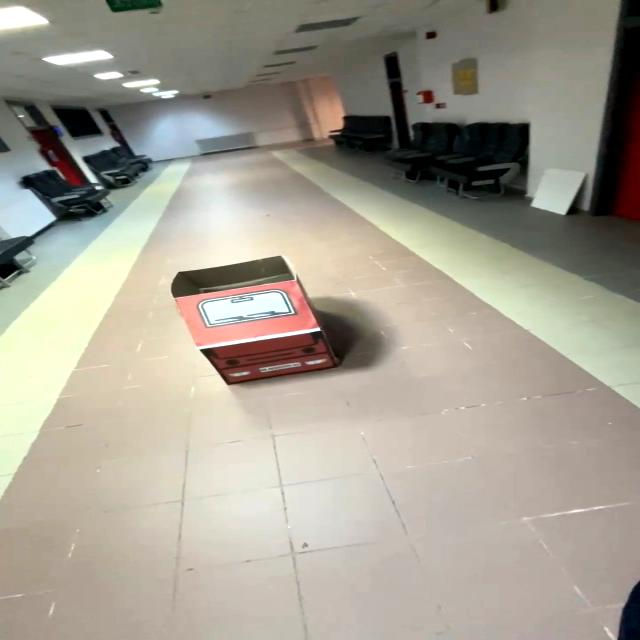red_car: (126, 247, 392, 396)
